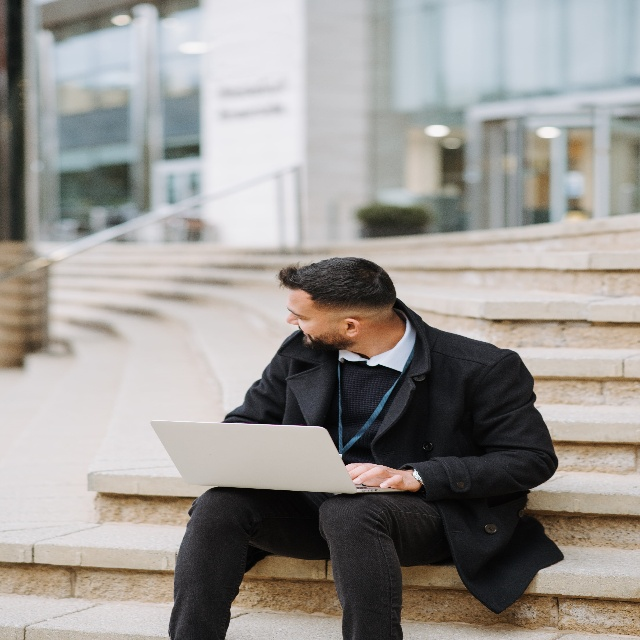Sin_guantes: (345, 458, 419, 498)
